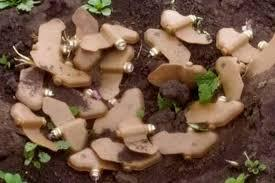PMF 1: (91, 84, 146, 138), (38, 96, 89, 152), (21, 19, 70, 74), (10, 103, 62, 152), (91, 136, 159, 171), (150, 128, 221, 161), (64, 8, 100, 71), (96, 45, 136, 100), (140, 25, 191, 67), (146, 61, 212, 93), (181, 97, 245, 129), (67, 147, 129, 180), (113, 114, 161, 155), (217, 26, 265, 66), (160, 10, 213, 46), (10, 64, 50, 109), (243, 31, 275, 83), (80, 24, 141, 51), (56, 86, 107, 118), (42, 56, 92, 87), (214, 57, 247, 102)
